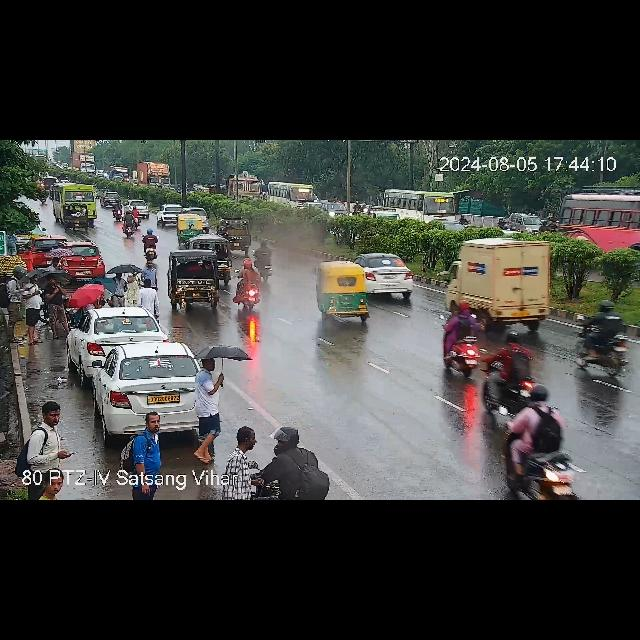bus: (556, 191, 640, 253), (378, 192, 462, 222), (50, 182, 94, 224), (266, 179, 320, 203), (110, 165, 132, 182)
car: (82, 342, 216, 438), (72, 308, 168, 360), (316, 262, 376, 320), (166, 253, 226, 309), (354, 254, 416, 298), (38, 240, 108, 276), (28, 234, 66, 264), (222, 218, 250, 254), (187, 237, 231, 257), (508, 210, 540, 234), (63, 203, 89, 229), (178, 214, 202, 238), (158, 202, 176, 225), (320, 202, 348, 216), (124, 198, 148, 214), (201, 207, 211, 233), (101, 191, 115, 207)
motorcycle: (507, 386, 587, 499), (486, 322, 546, 400), (259, 430, 325, 500), (570, 304, 628, 372), (442, 301, 483, 375), (231, 264, 261, 310), (256, 240, 274, 280), (141, 230, 159, 264), (122, 210, 132, 238), (133, 207, 141, 230), (113, 198, 121, 218), (459, 214, 469, 228), (498, 215, 506, 232), (354, 201, 362, 215)
person: (24, 398, 64, 474), (124, 416, 170, 476), (197, 356, 221, 468), (222, 425, 262, 477), (44, 276, 70, 336), (22, 274, 42, 346), (7, 270, 23, 348), (134, 282, 160, 321), (110, 268, 138, 304), (143, 258, 157, 288)
truck: (446, 238, 548, 324), (213, 174, 260, 200), (134, 160, 170, 192), (355, 208, 405, 222), (72, 152, 98, 176)
